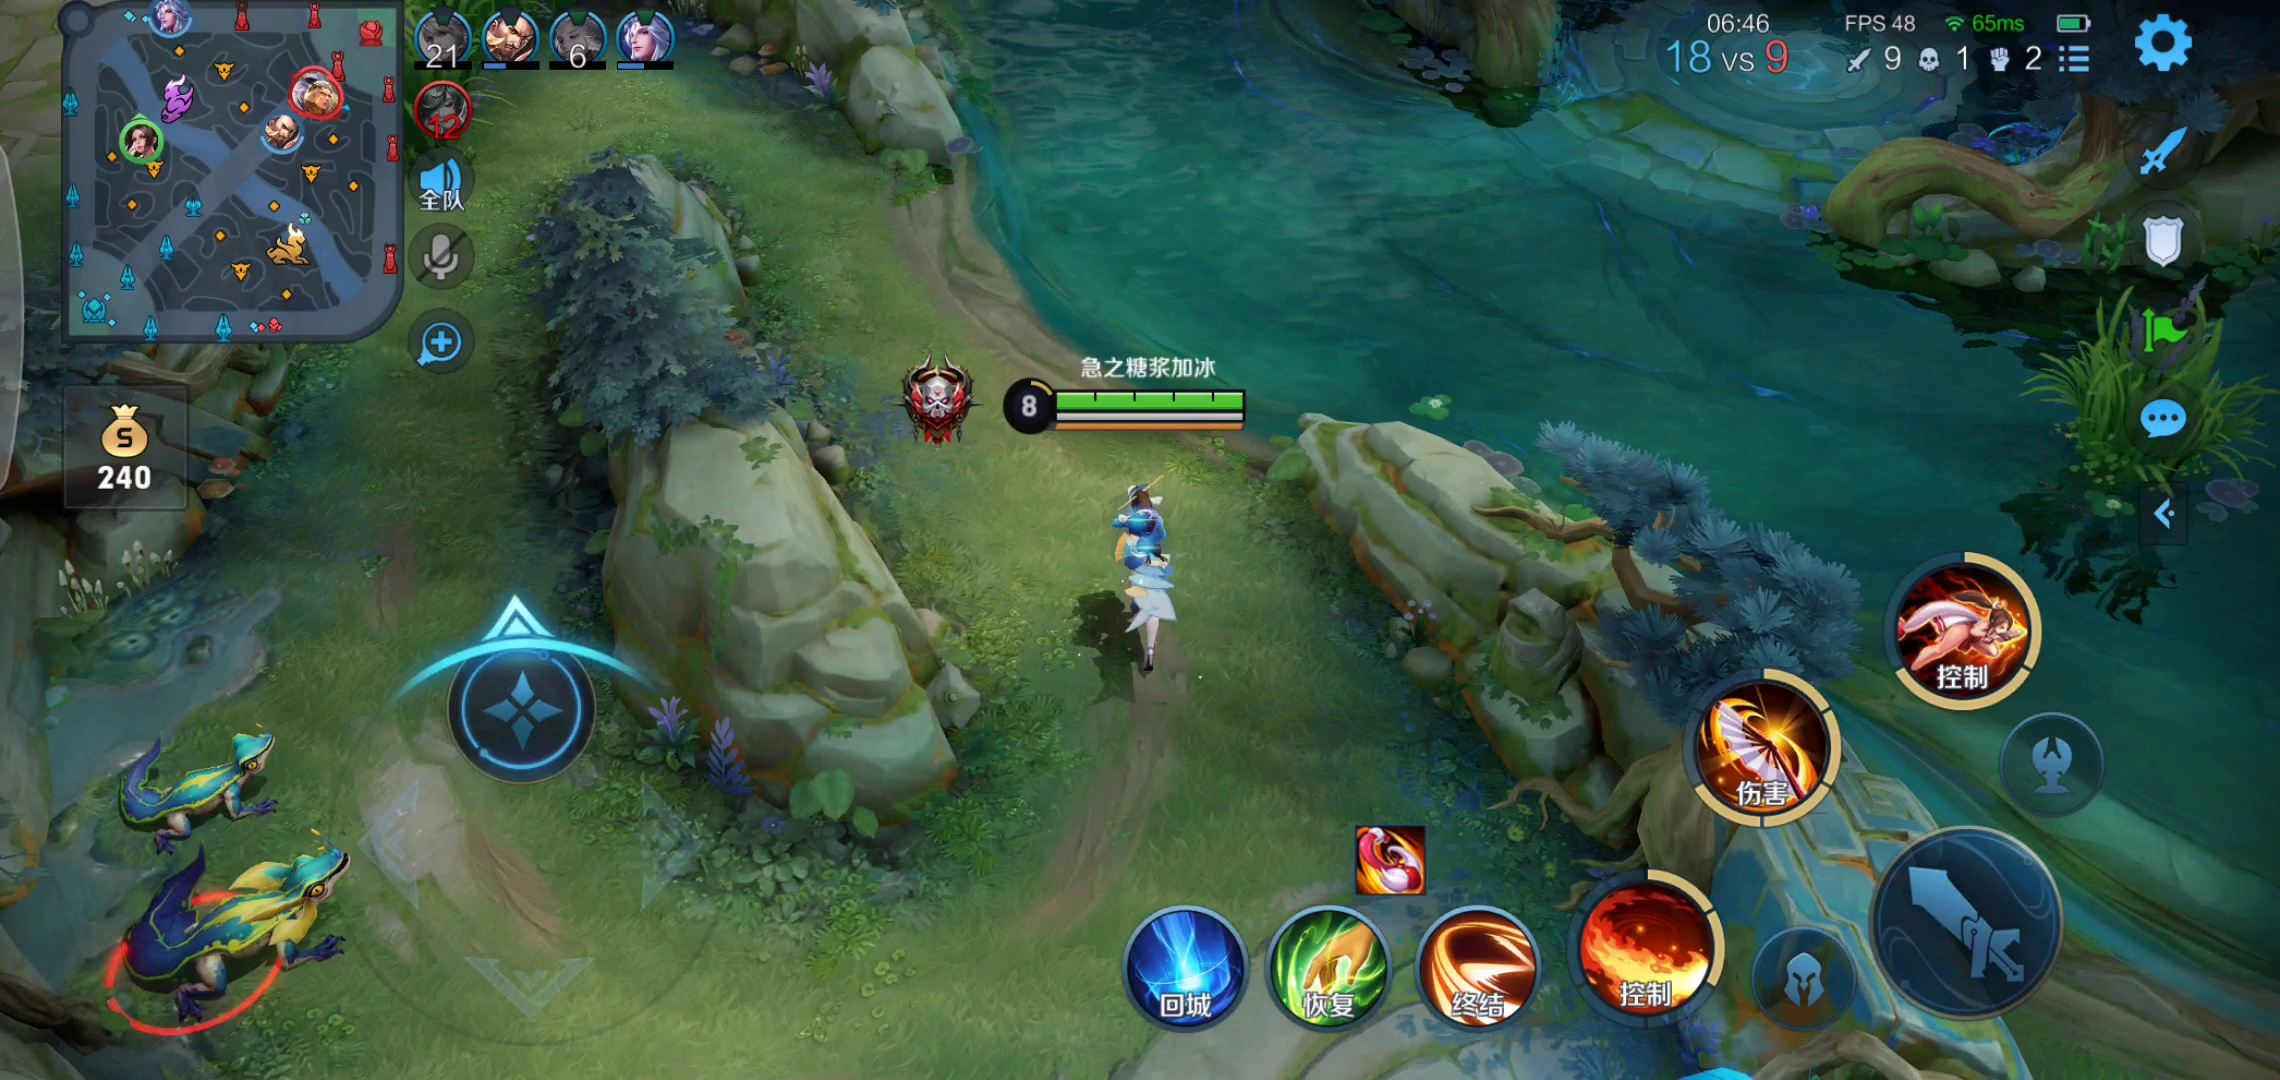grass: (2026, 295, 2280, 510)
hero: (1054, 461, 1224, 686)
wild_monster: (73, 721, 374, 1035)
